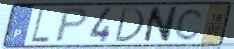4: (87, 6, 113, 45)
C: (173, 7, 206, 42)
D: (112, 6, 146, 44)
L: (29, 7, 51, 44)
N: (141, 5, 180, 44)
P: (53, 7, 91, 44)
